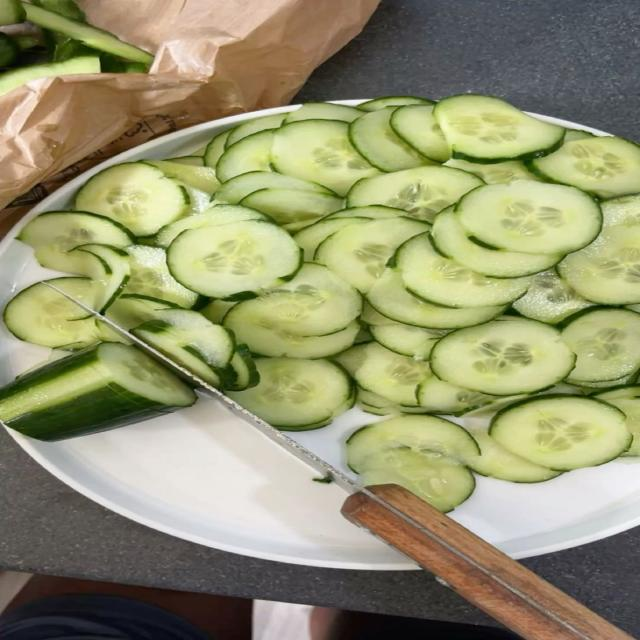cucumber sliced: (0, 343, 195, 440), (430, 317, 575, 395), (490, 395, 632, 471), (455, 181, 601, 253), (167, 220, 301, 297), (394, 233, 529, 308), (234, 263, 362, 336), (432, 207, 563, 277), (434, 94, 564, 163), (229, 358, 353, 430), (314, 218, 429, 293), (74, 162, 189, 236), (271, 120, 378, 195), (22, 3, 153, 64), (367, 271, 505, 328), (133, 310, 235, 387), (224, 301, 359, 359), (347, 166, 484, 221), (347, 416, 479, 472), (362, 448, 474, 512), (19, 212, 134, 271), (528, 137, 639, 197), (557, 226, 639, 304), (4, 283, 97, 347), (134, 309, 235, 367), (562, 308, 639, 382), (349, 107, 432, 171), (465, 429, 560, 482), (155, 205, 272, 248), (354, 343, 430, 406), (125, 245, 198, 308), (240, 188, 342, 230), (513, 270, 592, 323), (69, 244, 130, 312), (214, 171, 333, 204), (0, 56, 100, 94), (390, 105, 450, 162), (294, 217, 370, 261), (594, 385, 639, 456), (216, 130, 275, 182), (370, 321, 446, 360), (417, 377, 496, 414), (144, 160, 219, 195), (106, 294, 179, 329), (445, 159, 539, 183), (225, 115, 284, 148), (453, 394, 533, 417), (224, 344, 259, 390), (566, 371, 639, 393), (284, 103, 362, 123), (600, 193, 640, 228), (331, 343, 370, 377), (176, 181, 211, 215), (358, 96, 434, 111), (360, 302, 402, 329), (203, 130, 232, 168), (327, 206, 406, 219), (200, 299, 238, 323), (359, 402, 413, 416), (0, 33, 20, 68), (358, 387, 390, 408), (0, 0, 26, 25), (12, 35, 39, 51), (564, 129, 594, 143), (167, 156, 205, 166)
